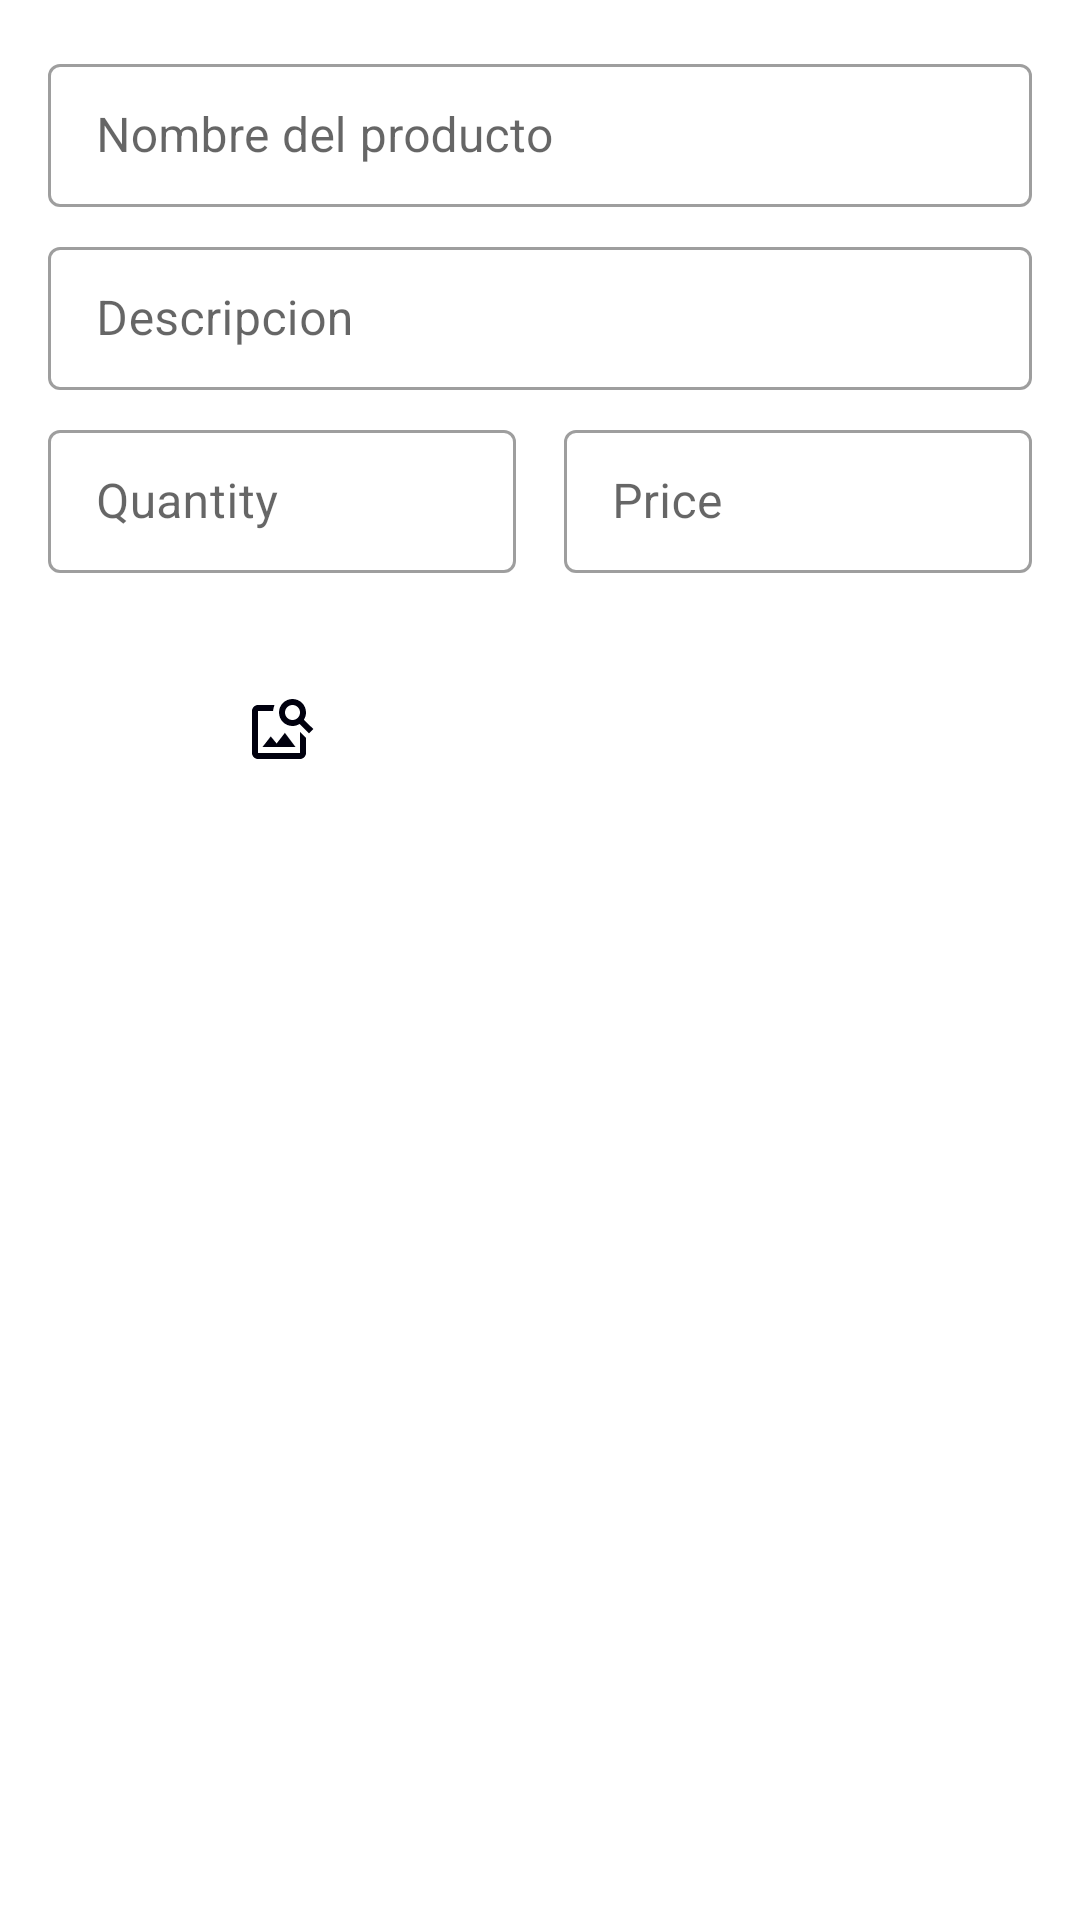

Screen size 1080 x 1920. Icon name, then its box in pixels as (x1, y1, x2, y2):
search: (252, 699, 313, 759)
